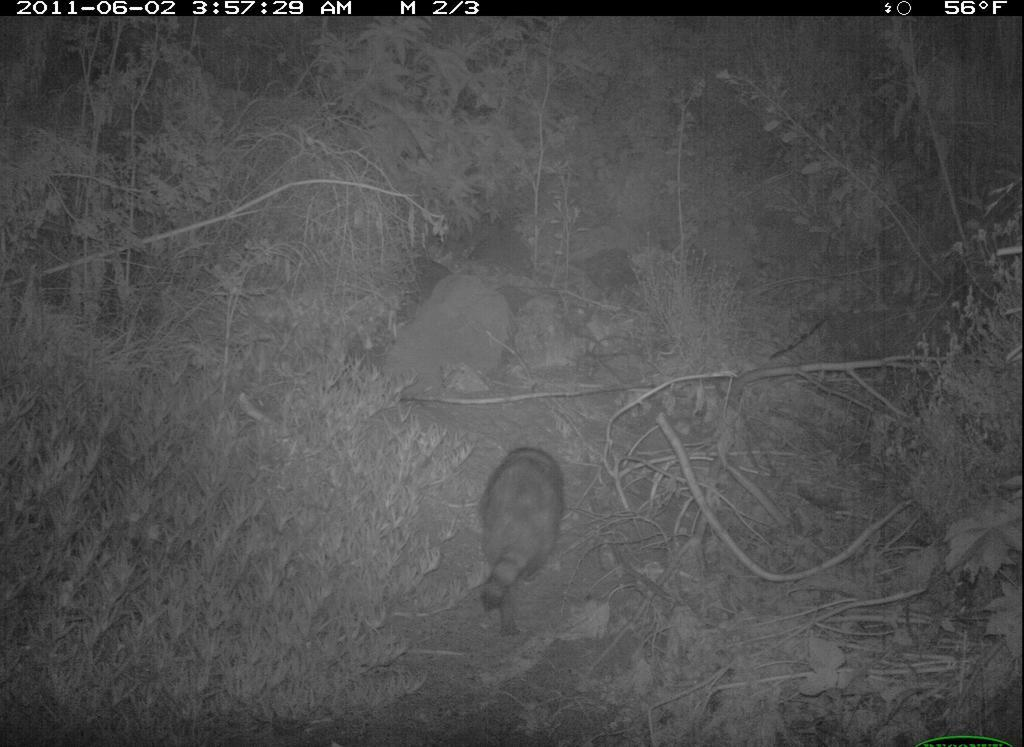raccoon: (465, 438, 578, 641)
